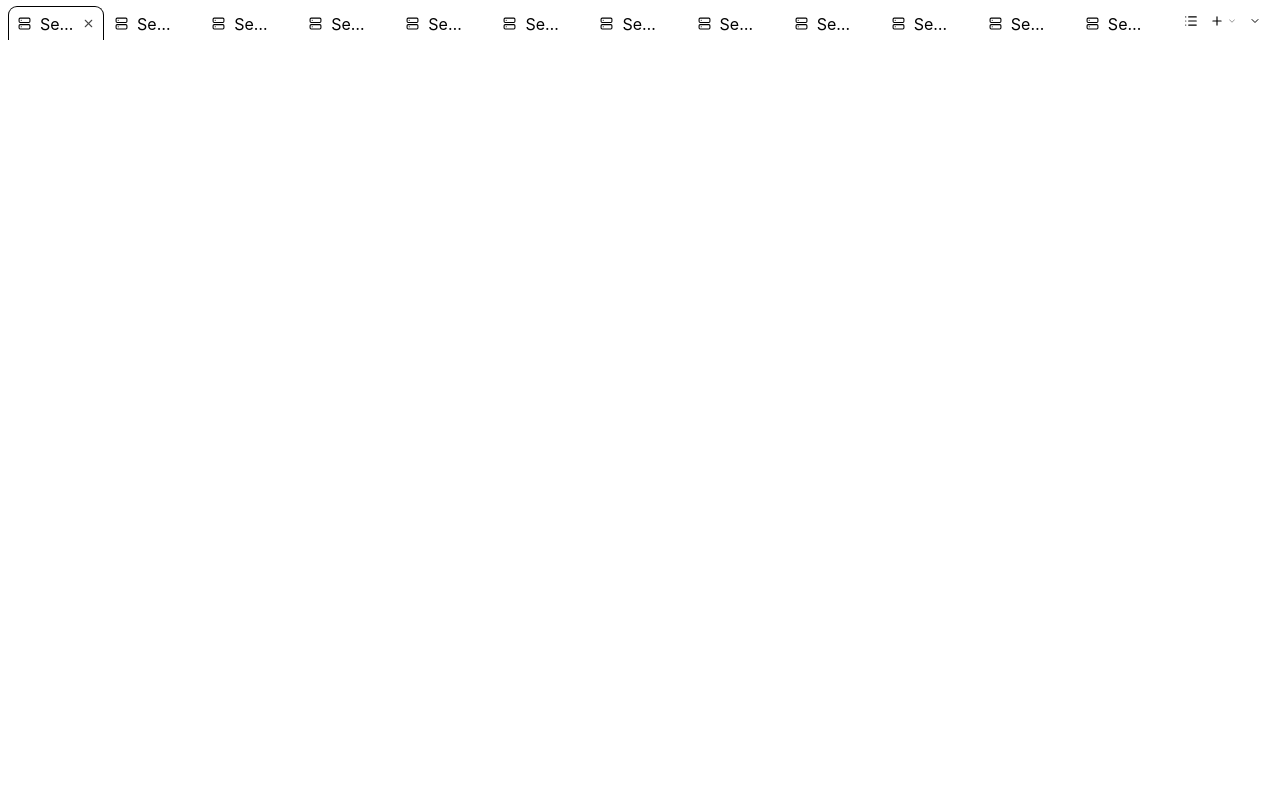
Test: TabBar overflow › leaves IME candidate confirmation and cancellation to the input method: {"isComposing":true}
Click the button named "全部标签".
click(1191, 21)  # box [1176, 6, 1206, 36]
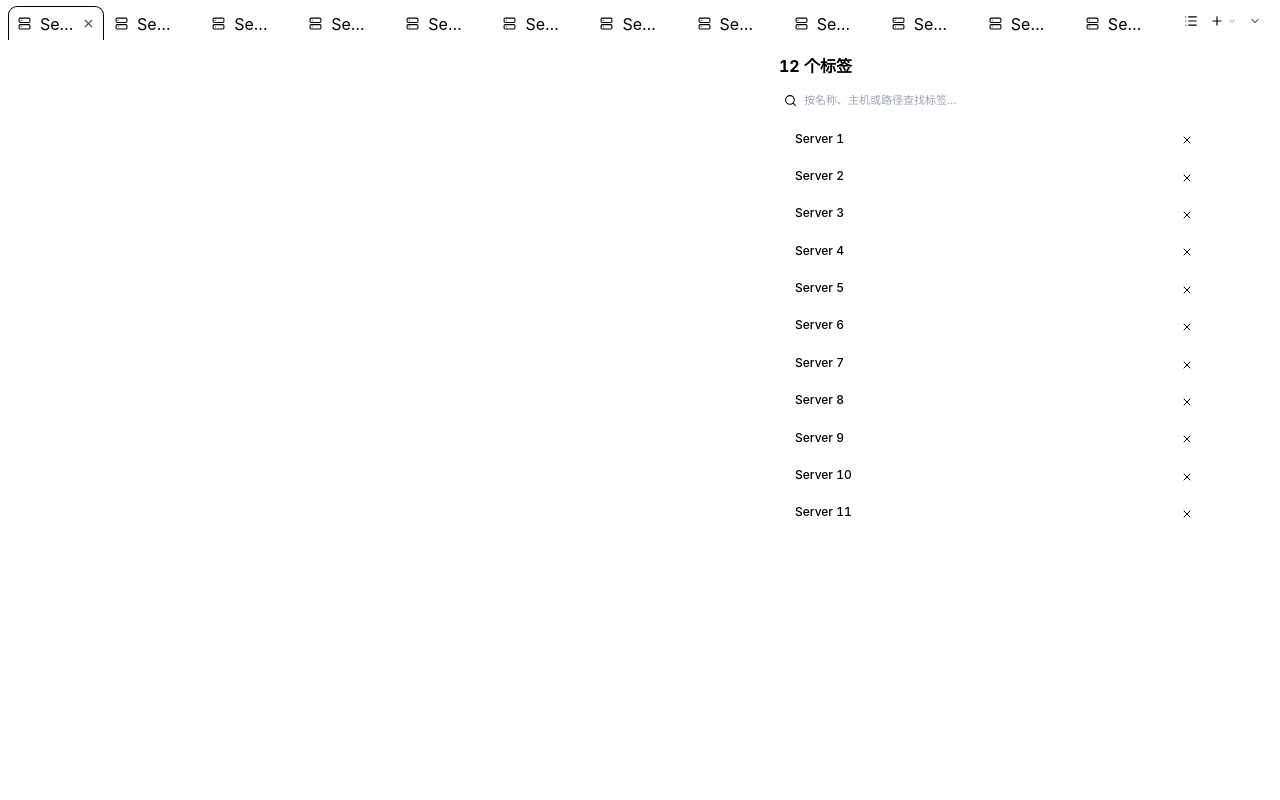
Press Enter in the field, box [804, 92, 1188, 108]
Press Escape in the field, box [804, 92, 1188, 108]
Press ArrowDown in the field, box [804, 92, 1188, 108]
Expected: the dialog named "全部标签" is shown, [766, 43, 1206, 548]
Press Enter in the field, box [804, 92, 1188, 108]
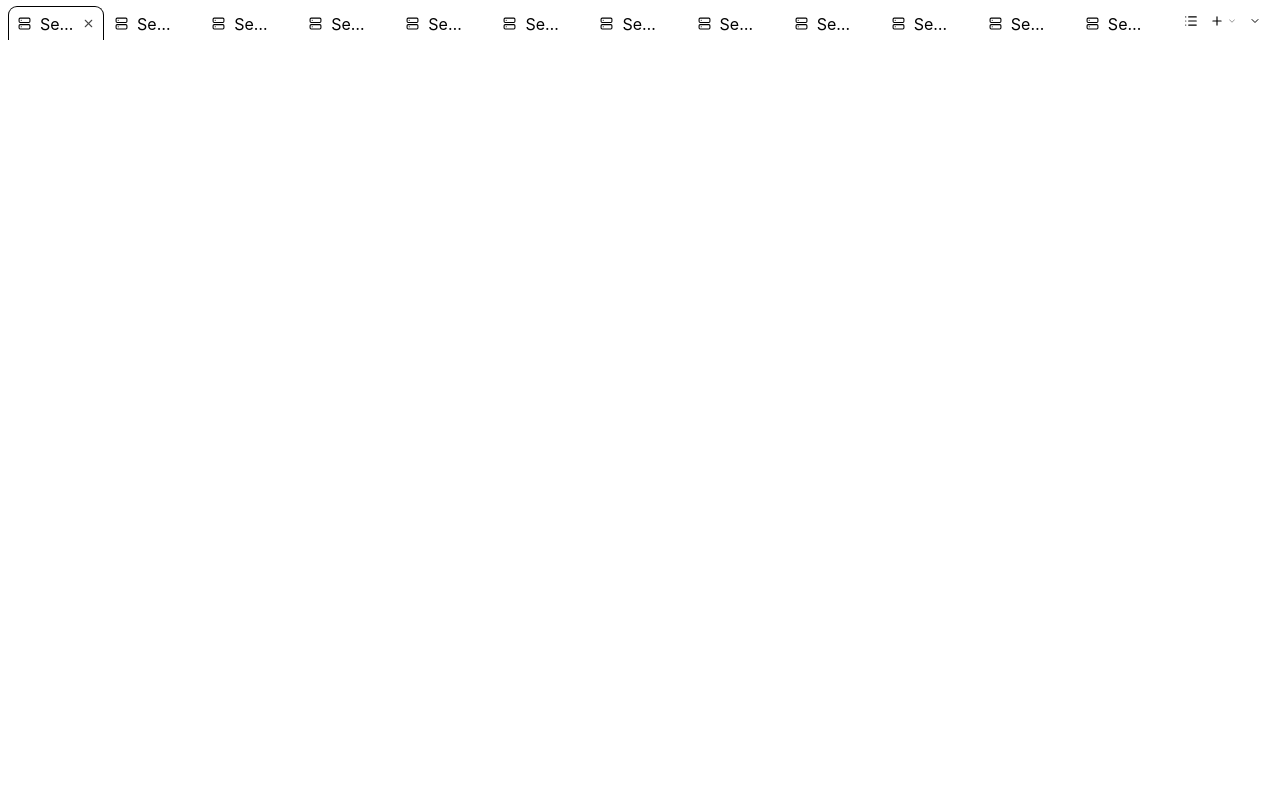
Expected: the dialog is gone
